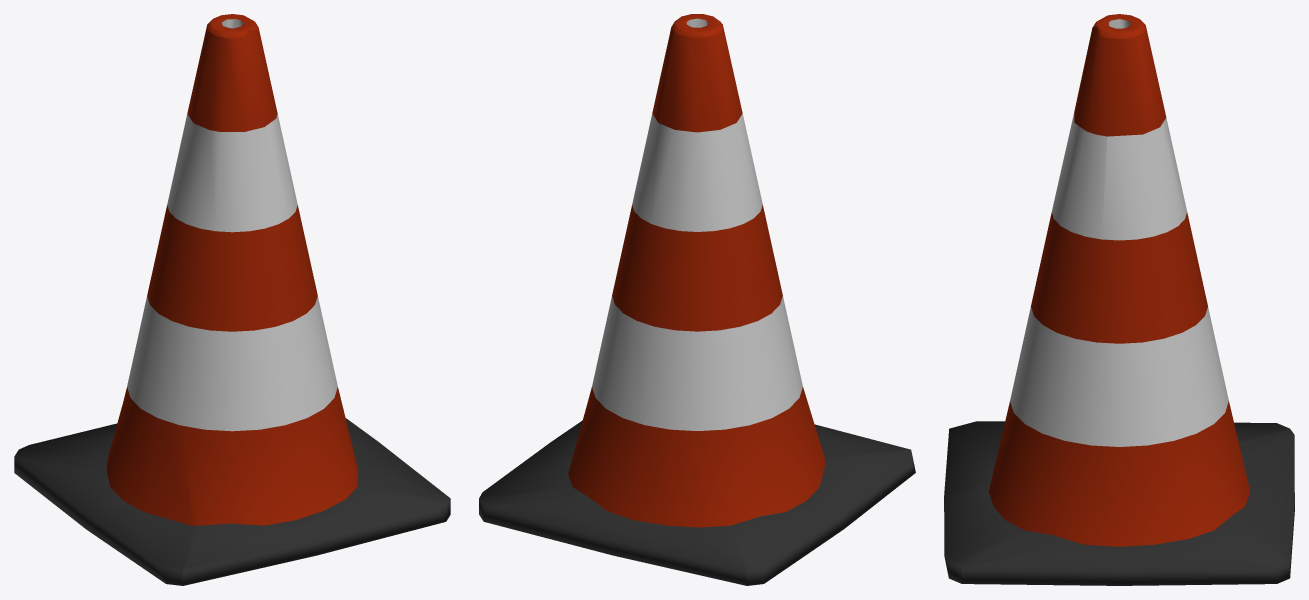
Rendered from Traffic cone normal.fbx.
3 views of the same model, side by side, from view 1: azimuth 30°, elevation 25°; view 2: azimuth 150°, elevation 25°; view 3: azimuth 270°, elevation 25° (orthographic). The views are drawn at different scales.
Visible parts, largest first — view 1: Traffic cone; view 2: Traffic cone; view 3: Traffic cone.
Part boxes in pixels (box(x1,y1,x2,y2)): Traffic cone: box(14, 14, 450, 585); Traffic cone: box(479, 14, 915, 585); Traffic cone: box(944, 14, 1294, 585).
Bounding box in the file's own units: 30.17 × 46.33 × 30.17.
